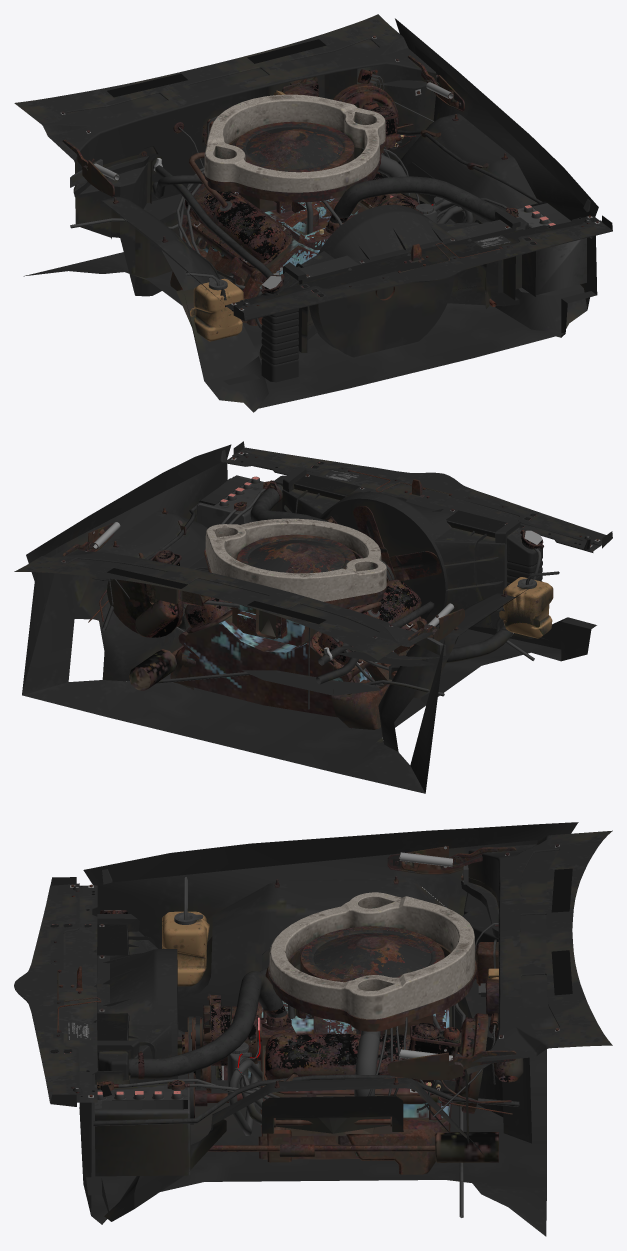
File: Pontiac_GTOTheJudgeClassic_1969_Engine0a_lodA.fbx
3 renders of one model, top to bottom at view 1: azimuth 30°, elevation 25°; view 2: azimuth 150°, elevation 25°; view 3: azimuth 270°, elevation 25°, orthographic. The views are drawn at different scales.
Visible parts, largest first — view 1: Engine0a_Swatch_Geo_lodA, Engine0a_Details_Geo_lodA; view 2: Engine0a_Swatch_Geo_lodA, Engine0a_Details_Geo_lodA; view 3: Engine0a_Swatch_Geo_lodA, Engine0a_Details_Geo_lodA.
Part boxes in pixels (x1,y1,x2,y2): Engine0a_Swatch_Geo_lodA: (14, 14, 612, 412); Engine0a_Details_Geo_lodA: (61, 37, 599, 310); Engine0a_Swatch_Geo_lodA: (14, 441, 612, 793); Engine0a_Details_Geo_lodA: (61, 452, 600, 680); Engine0a_Swatch_Geo_lodA: (14, 822, 612, 1236); Engine0a_Details_Geo_lodA: (49, 845, 572, 1109).
Bounding box in the file's own units: 1.52 × 0.6341 × 1.61.
